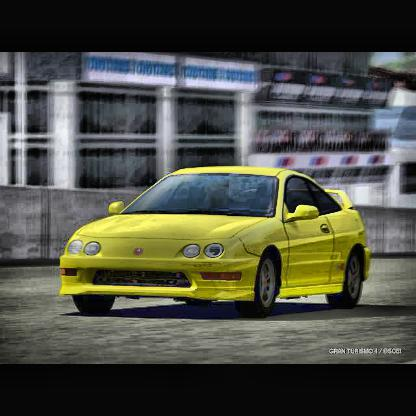Acura Integra Type R 2001: (60, 167, 369, 319)
